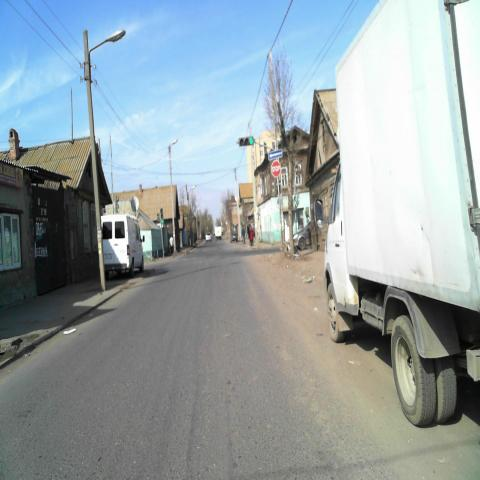5_7_2: (268, 148, 282, 160)
